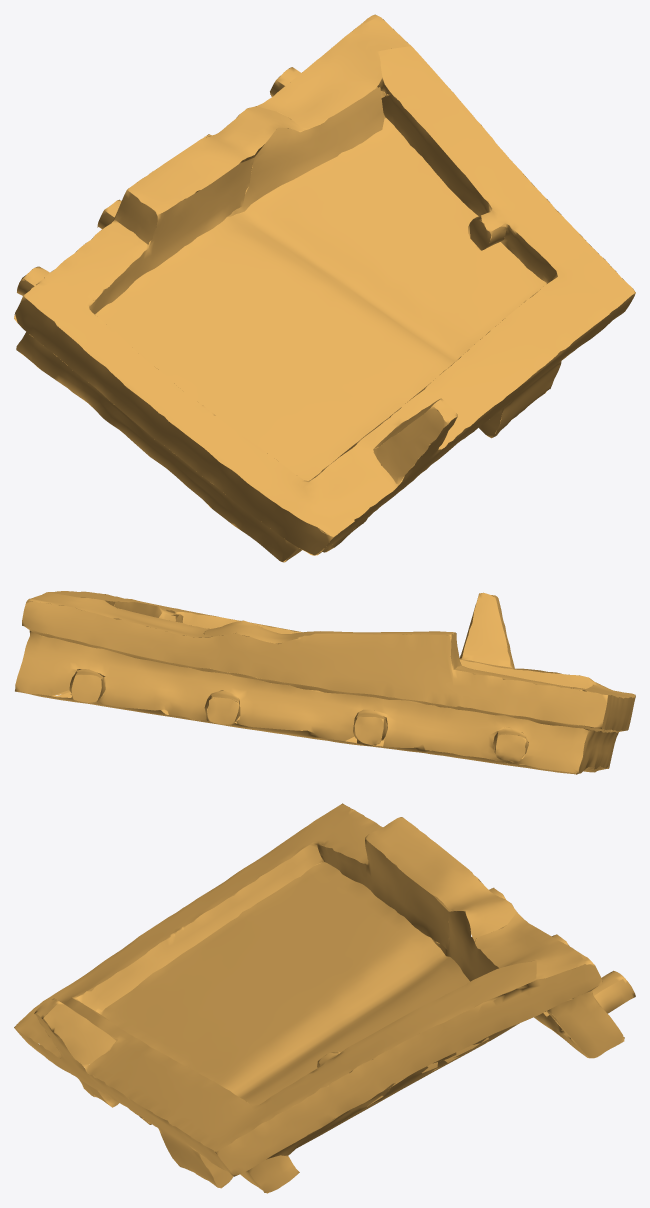
File: buildings_10.fbx
3 renders of one model, top to bottom at view 1: azimuth 30°, elevation 25°; view 2: azimuth 150°, elevation 25°; view 3: azimuth 270°, elevation 25°, orthographic. The views are drawn at different scales.
Visible parts, largest first — view 1: Retopo_image_Stylized_architectural_model_of_a_building_cbca; view 2: Retopo_image_Stylized_architectural_model_of_a_building_cbca; view 3: Retopo_image_Stylized_architectural_model_of_a_building_cbca.
Part boxes in pixels (<box>): Retopo_image_Stylized_architectural_model_of_a_building_cbca: <box>14,14,635,562</box>; Retopo_image_Stylized_architectural_model_of_a_building_cbca: <box>15,591,635,774</box>; Retopo_image_Stylized_architectural_model_of_a_building_cbca: <box>14,803,635,1193</box>.
Size of the model in its own units: 1872 by 903 by 1844.
